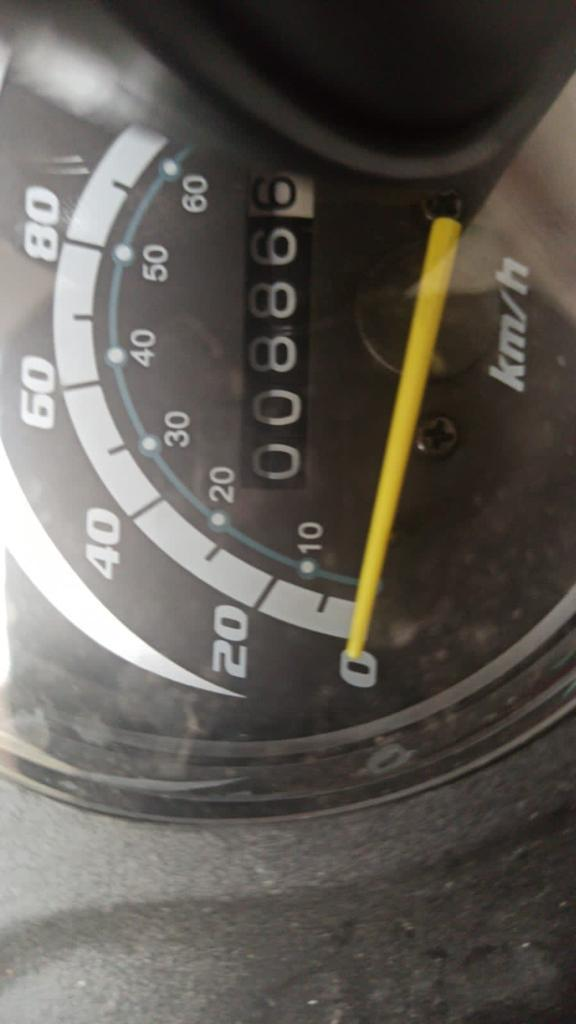0: (244, 387, 306, 431), (245, 441, 309, 483)
6: (244, 171, 307, 213), (244, 228, 307, 268)
8: (243, 279, 303, 320), (245, 333, 301, 374)
odometer: (230, 167, 322, 492)
